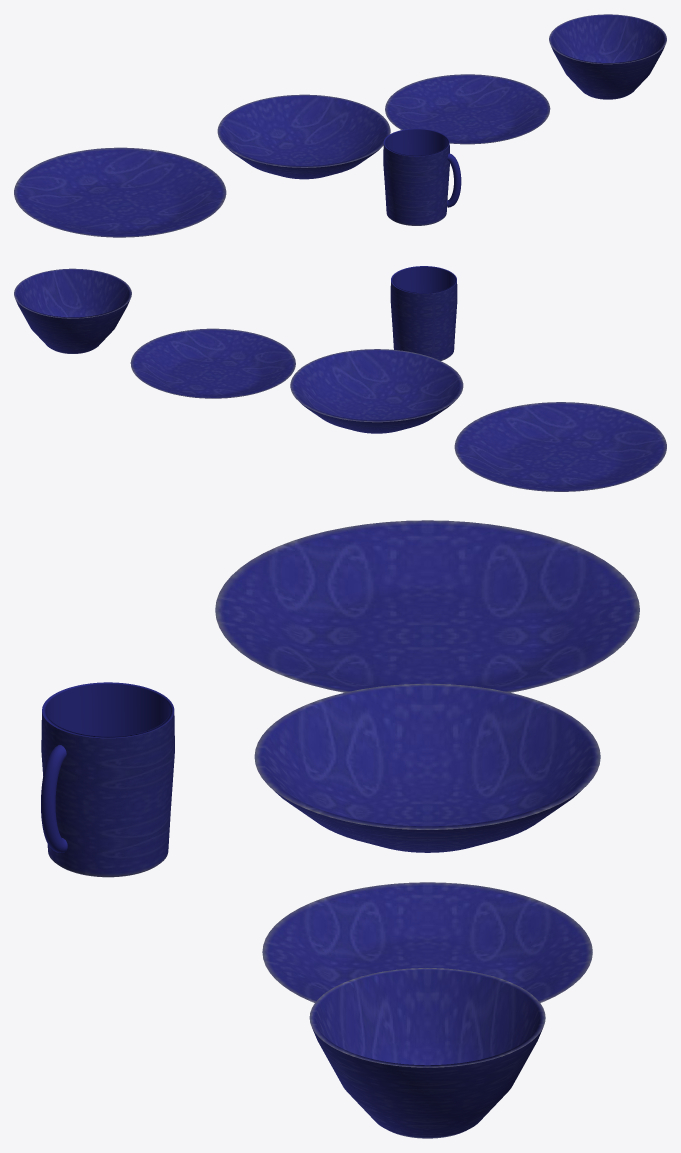
3 renders of one model, top to bottom at view 1: azimuth 30°, elevation 25°; view 2: azimuth 150°, elevation 25°; view 3: azimuth 270°, elevation 25°, orthographic. The views are drawn at different scales.
Size of the model in its own units: 0.926 by 0.1 by 0.3807.
11 materials, 9 textured.
